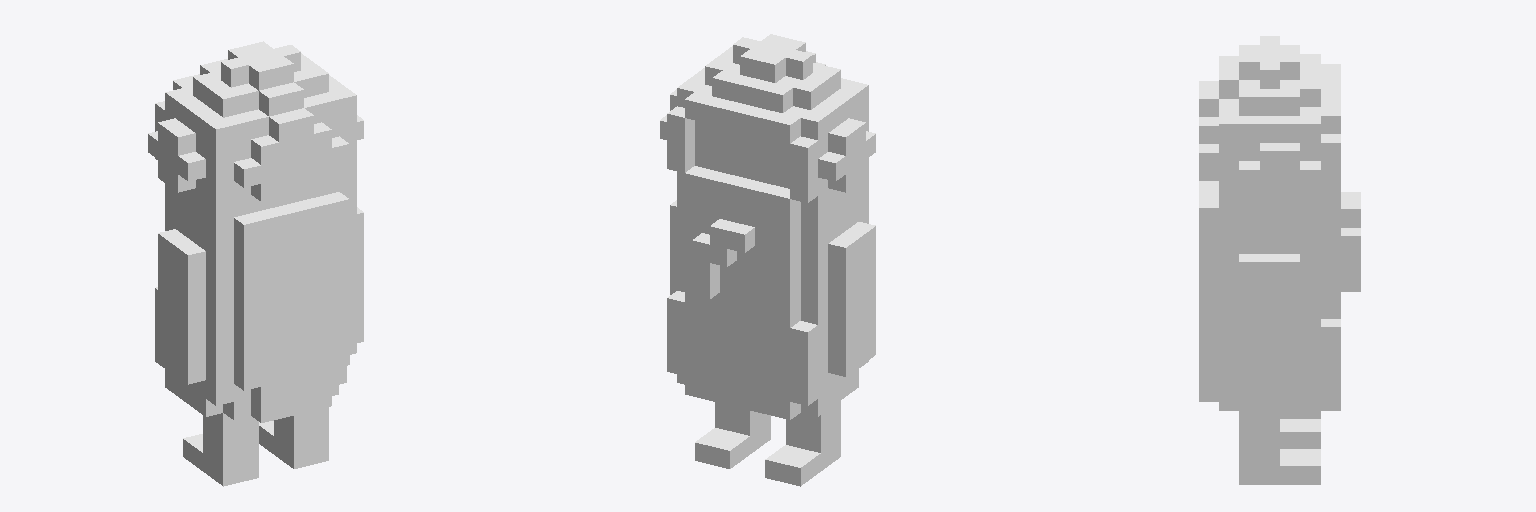
File: player_snowman.obj
3 renders of one model, left to right at view 1: azimuth 30°, elevation 25°; view 2: azimuth 150°, elevation 25°; view 3: azimuth 270°, elevation 25°, orthographic.
Parts seen in each view (by area): view 1: object 1; view 2: object 1; view 3: object 1.
Boxes of the visible parts, box(x1,y1,x2,y2) form: object 1: box(148, 41, 363, 486); object 1: box(660, 34, 875, 486); object 1: box(1199, 36, 1360, 484).
Bounding box in the file's own units: 1 × 2.2 × 0.8.